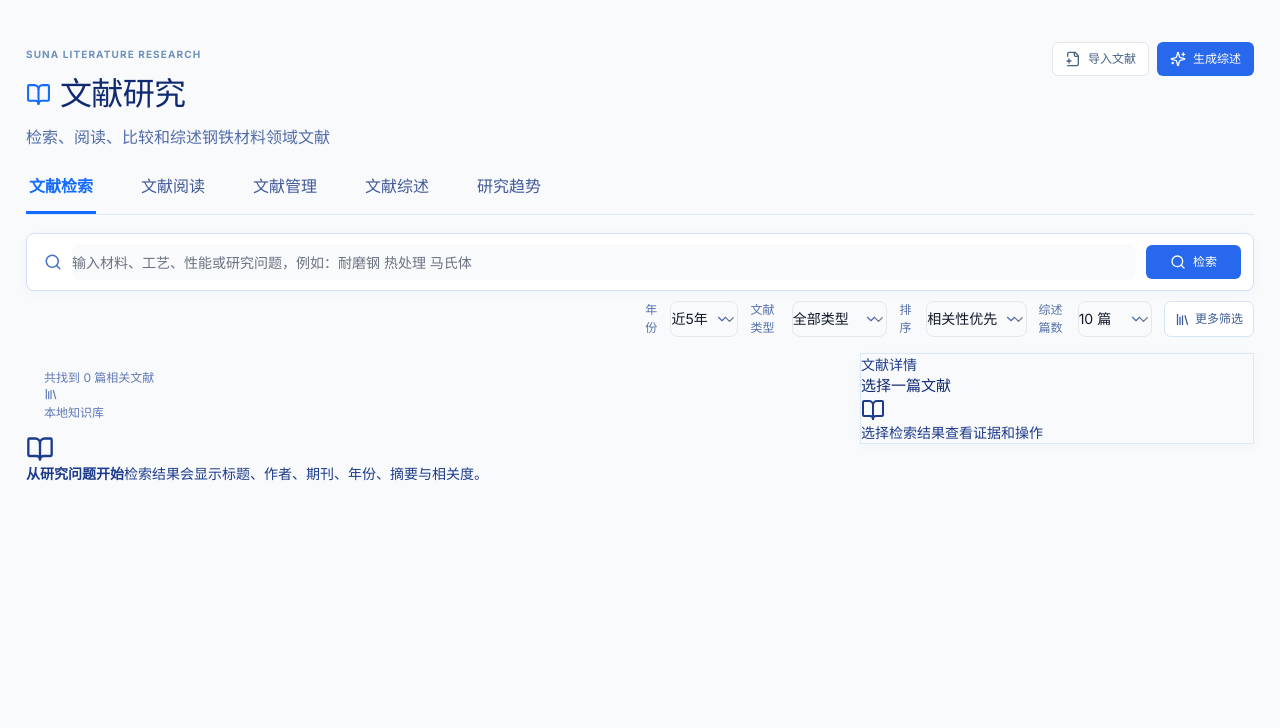
Test case: LiteratureResearchPage › 提供研究趋势视图（第 26 章）
Step 1. Type "耐磨钢 热处理 马氏体" into the field with placeholder "输入材料、工艺、性能或研究问题，例如：耐磨钢 热处理 马氏体" → (604, 262), box [72,244,1136,280]
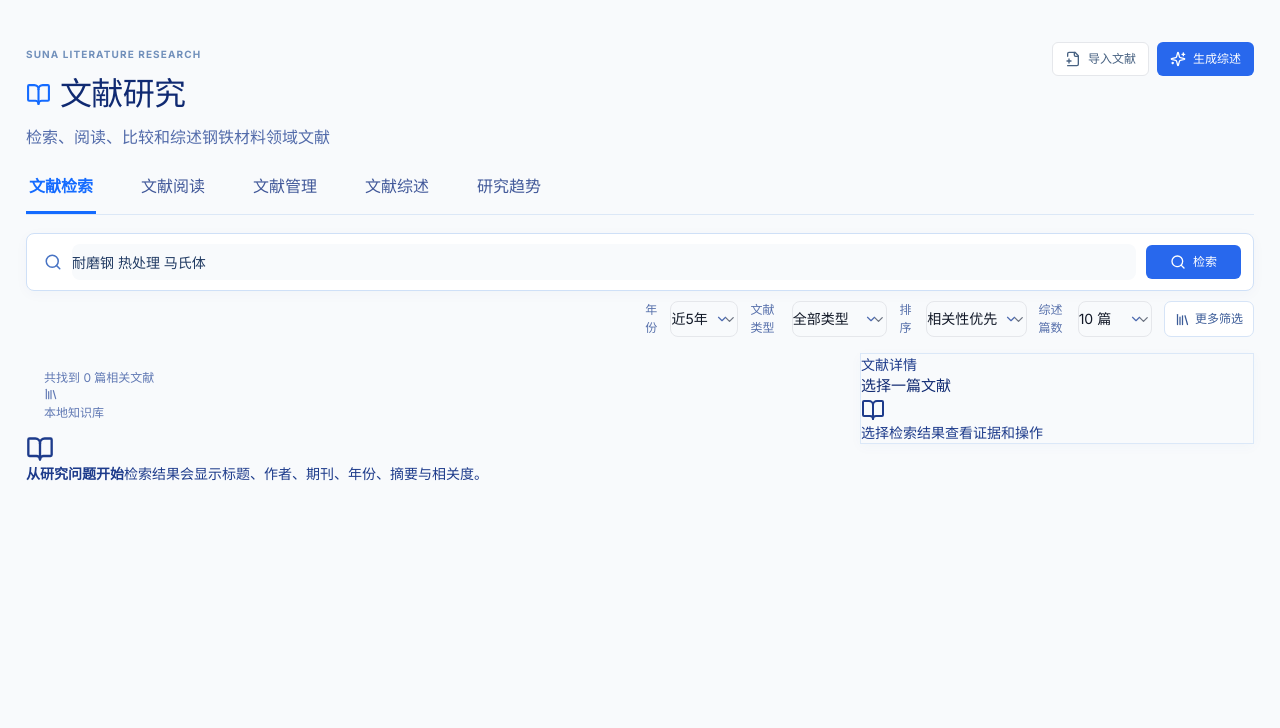
Step 2. Click the button "检索" → (1194, 262), box [1146,245,1241,279]
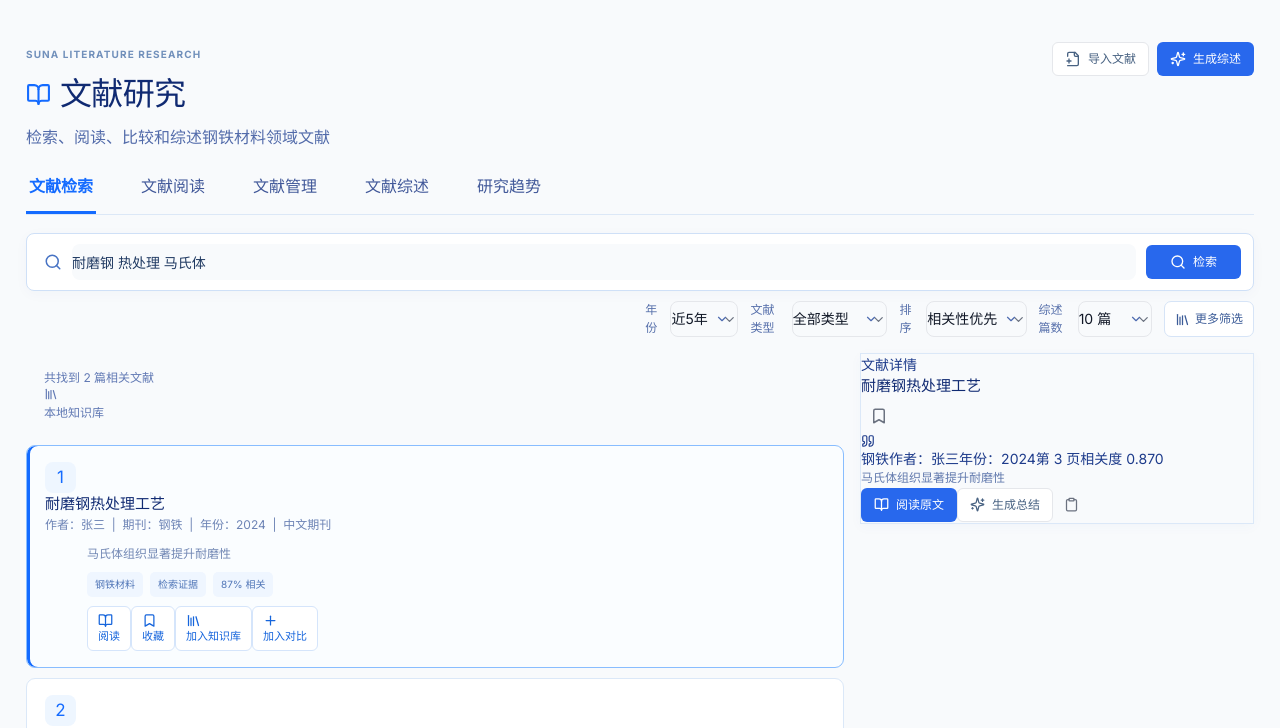
Step 3. Click the button "研究趋势" → (509, 194), box [474,174,544,214]
(page scrolled)
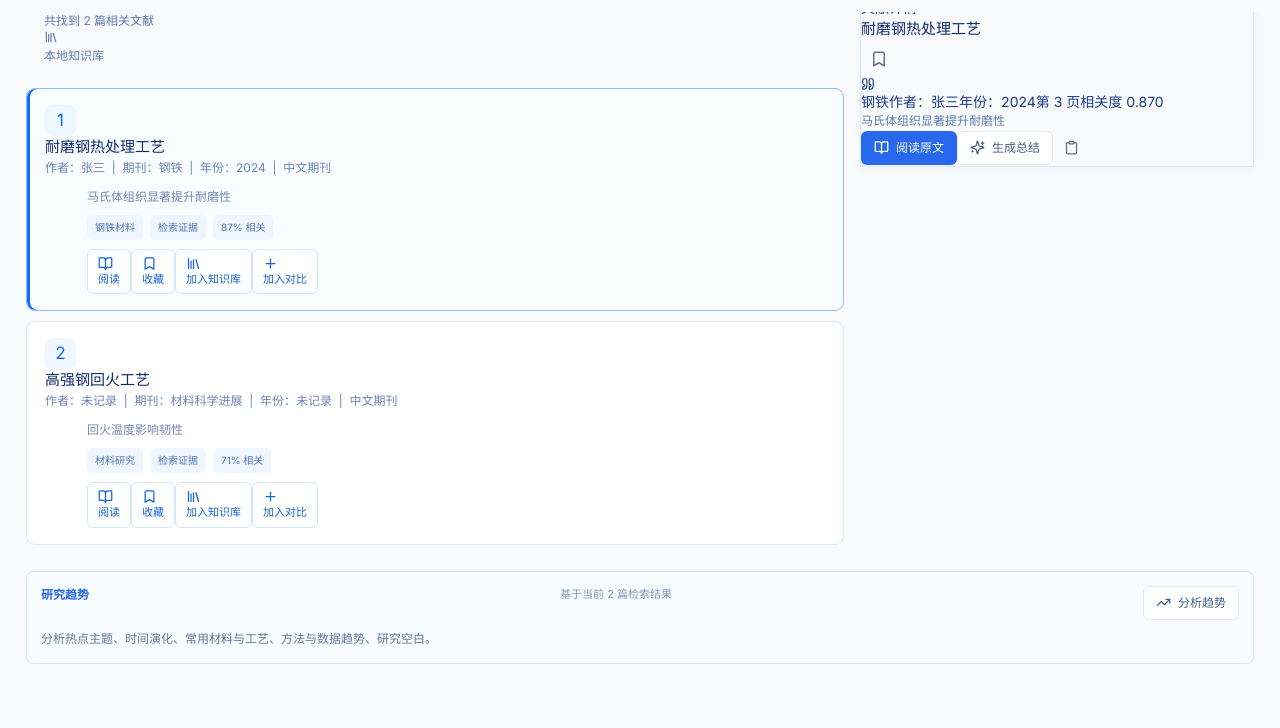
Step 4. Click the button "分析趋势" → (1191, 603), box [1143,586,1239,620]
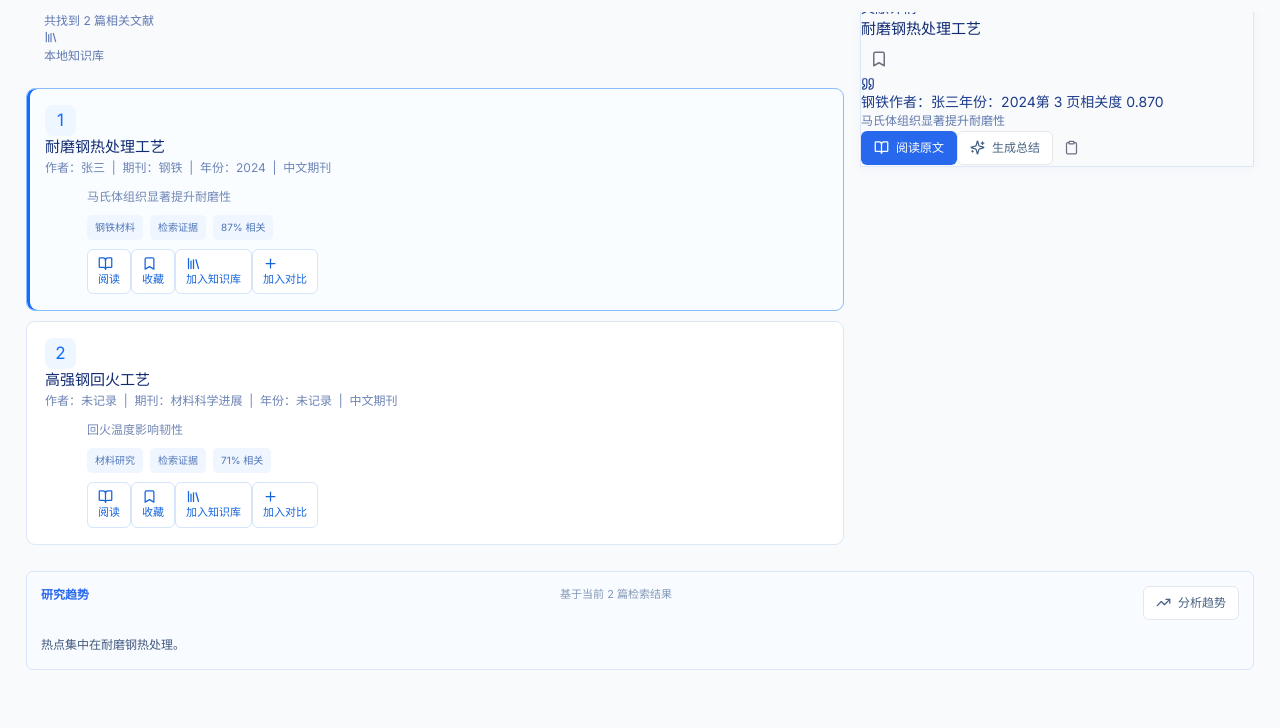
Now the text "热点集中在耐磨钢热处理。" is shown, box [41,634,185,655]
